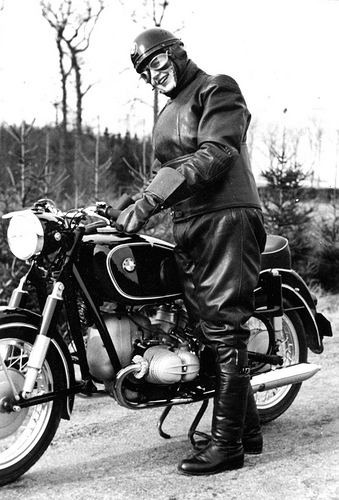helmet: (128, 27, 183, 63)
